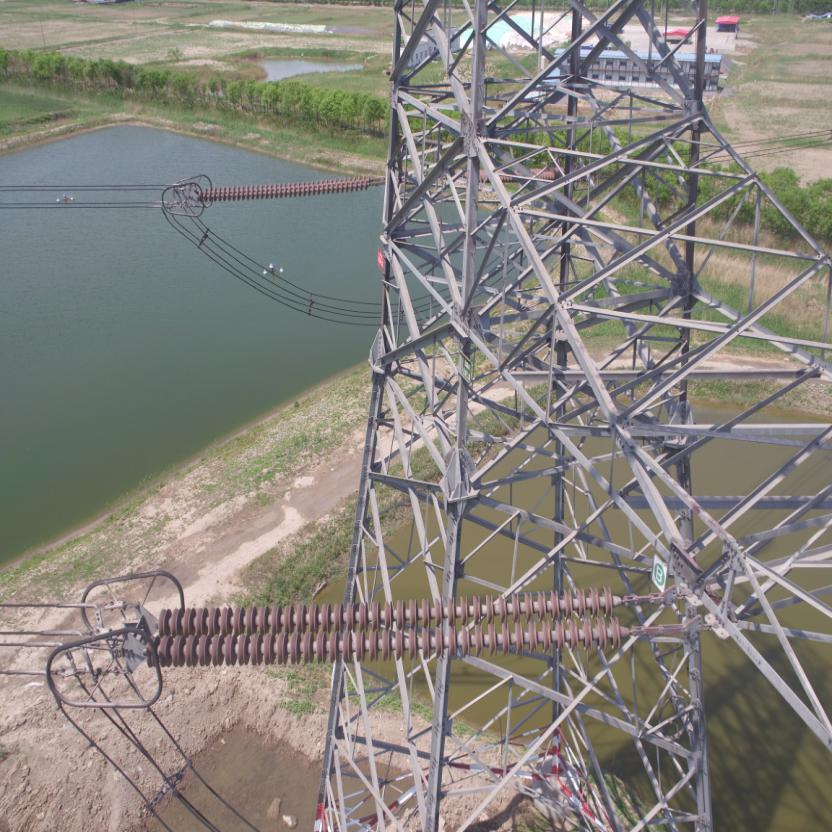insulator: (134, 585, 658, 670), (195, 174, 376, 200)
